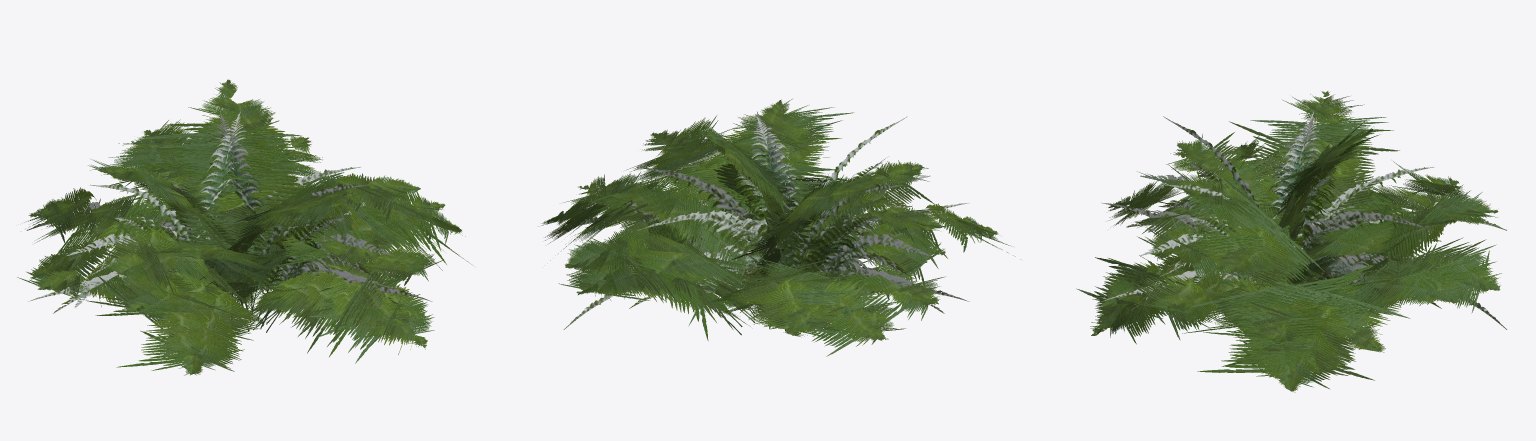
Rendered from fern_01.glb.
3 views of the same model, side by side, from view 1: azimuth 30°, elevation 25°; view 2: azimuth 150°, elevation 25°; view 3: azimuth 270°, elevation 25° (orthographic).
Visible parts, largest first — view 1: AE_15TH_FERN_01_LOD1, AE_15TH_FERN_01_LOD2, AE_15TH_FERN_01_LOD3; view 2: AE_15TH_FERN_01_LOD1, AE_15TH_FERN_01_LOD2, AE_15TH_FERN_01_LOD3; view 3: AE_15TH_FERN_01_LOD1, AE_15TH_FERN_01_LOD2, AE_15TH_FERN_01_LOD3.
Boxes of the visible parts, <box> form: AE_15TH_FERN_01_LOD1: <box>28,79,465,374</box>; AE_15TH_FERN_01_LOD2: <box>17,80,471,375</box>; AE_15TH_FERN_01_LOD3: <box>26,111,432,332</box>; AE_15TH_FERN_01_LOD1: <box>545,99,1011,346</box>; AE_15TH_FERN_01_LOD2: <box>541,99,1020,356</box>; AE_15TH_FERN_01_LOD3: <box>563,111,969,332</box>; AE_15TH_FERN_01_LOD1: <box>1090,91,1501,390</box>; AE_15TH_FERN_01_LOD2: <box>1076,96,1500,392</box>; AE_15TH_FERN_01_LOD3: <box>1101,111,1506,329</box>.
Size of the model in its own units: 0.792 by 0.3741 by 0.7295.
5 materials, 5 textured.
